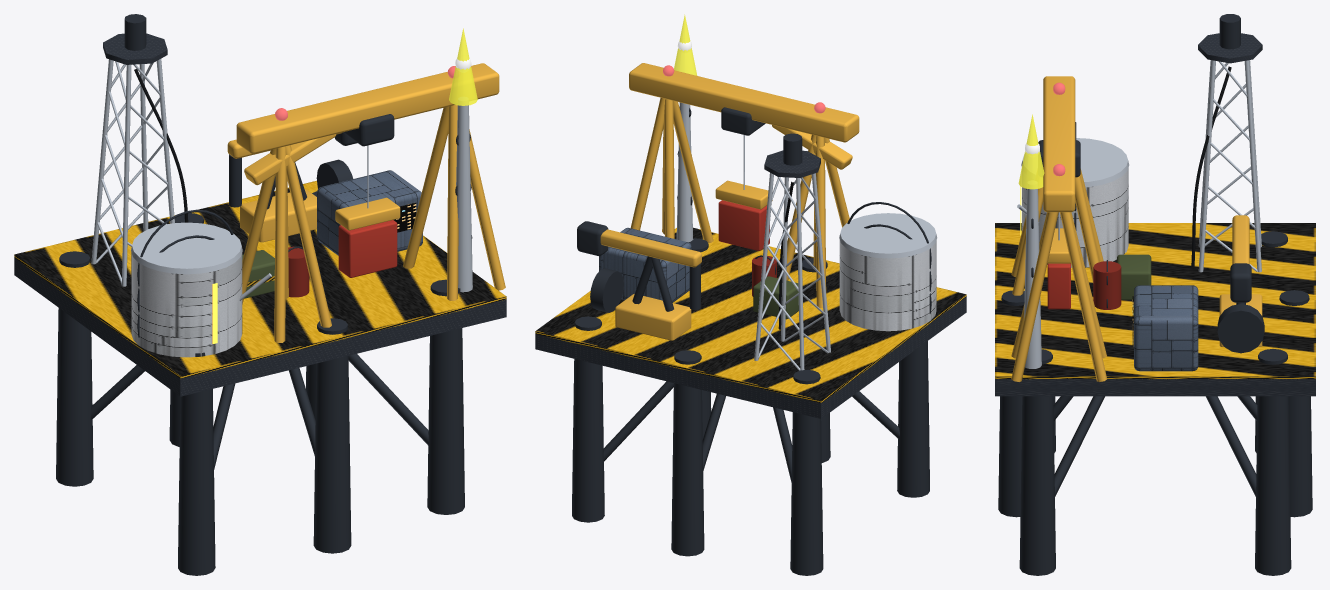
File: platform-T1.glb
The picture shows the model from 3 angles, left to right: view 1: azimuth 30°, elevation 25°; view 2: azimuth 150°, elevation 25°; view 3: azimuth 270°, elevation 25°; orthographic projection. The views are drawn at different scales.
Parts seen in each view (by area): view 1: object 14, object 13, object 69, object 84, object 11, object 7, object 5, object 1, anim:trolley, object 70, object 89, object 64 (+20 smaller); view 2: object 14, object 69, object 13, object 84, object 9, object 1, object 3, object 5, anim:trolley, object 70, anim:swing, object 89 (+20 smaller); view 3: object 14, object 3, object 7, object 13, object 89, object 84, object 69, object 9, object 11, anim:trolley, object 64, object 83 (+17 smaller).
Boxes of the visible parts, box(x1,y1,x2,y2) form: object 14: box(14, 180, 506, 378); object 13: box(14, 258, 506, 396); object 69: box(131, 253, 242, 357); object 84: box(236, 63, 499, 153); object 11: box(313, 318, 351, 553); object 7: box(427, 279, 464, 514); object 5: box(178, 352, 215, 575); object 1: box(56, 251, 93, 486); anim:trolley: box(335, 114, 400, 277); object 70: box(131, 222, 242, 274); object 89: box(317, 170, 422, 255); object 64: box(456, 105, 472, 292); object 14: box(535, 227, 966, 402); object 69: box(839, 240, 936, 331); object 13: box(535, 297, 966, 418); object 84: box(629, 63, 859, 142); object 9: box(671, 350, 704, 556); object 1: box(790, 369, 823, 575); object 3: box(572, 316, 604, 522); object 5: box(897, 341, 929, 497); anim:trolley: box(715, 107, 772, 250); object 70: box(839, 213, 937, 258); anim:swing: box(577, 221, 701, 309); object 89: box(599, 227, 691, 302); object 14: box(995, 223, 1315, 379); object 3: box(1255, 349, 1291, 575); object 7: box(1019, 349, 1055, 575); object 13: box(995, 379, 1315, 396); object 89: box(1134, 285, 1198, 371); object 84: box(1043, 76, 1075, 212); object 69: box(1022, 168, 1128, 267); object 9: box(1279, 290, 1312, 517); object 11: box(998, 290, 1024, 517); anim:trolley: box(1038, 140, 1080, 309); object 64: box(1024, 189, 1041, 368); object 83: box(1011, 212, 1058, 381).
Size of the model in its own units: 3.62 by 4.76 by 3.
18 materials, 5 textured.
